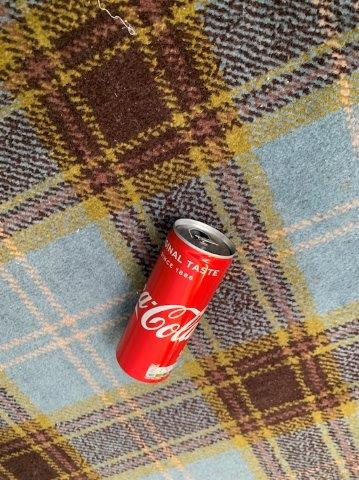kaleng: (117, 219, 234, 382)
